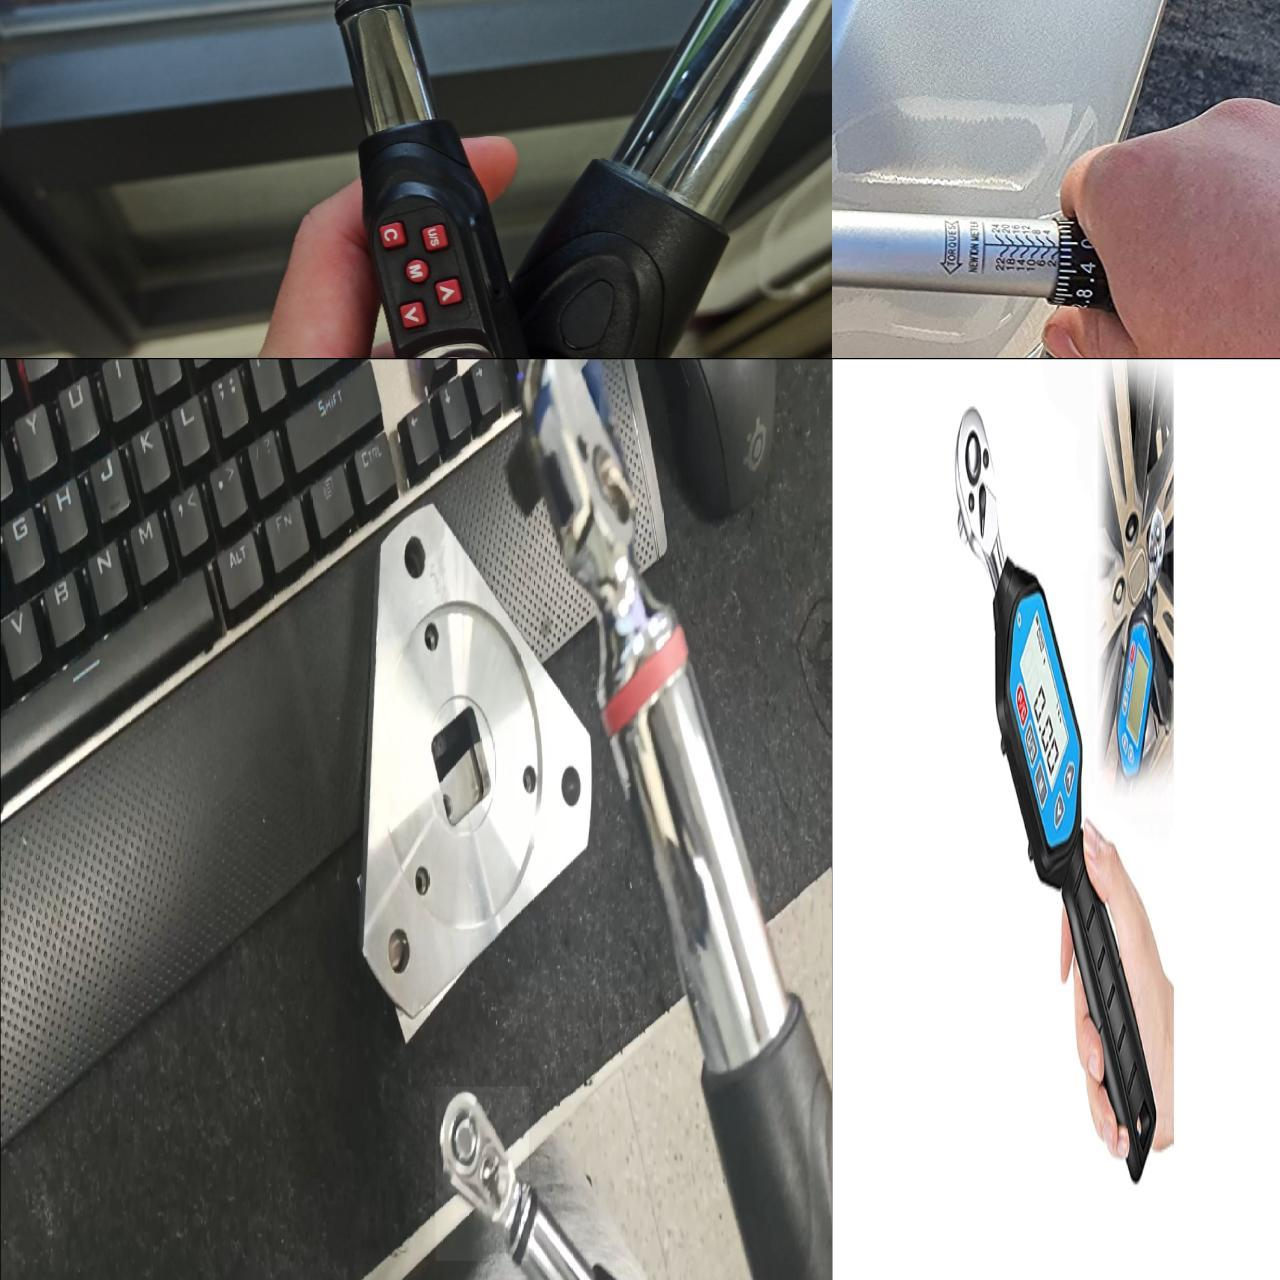Tool: (504, 361, 662, 658), (435, 1085, 529, 1260), (952, 397, 998, 560)
hole: (383, 922, 420, 983), (397, 536, 435, 583), (554, 761, 585, 808), (416, 620, 441, 654), (414, 866, 436, 900), (518, 767, 540, 799)
